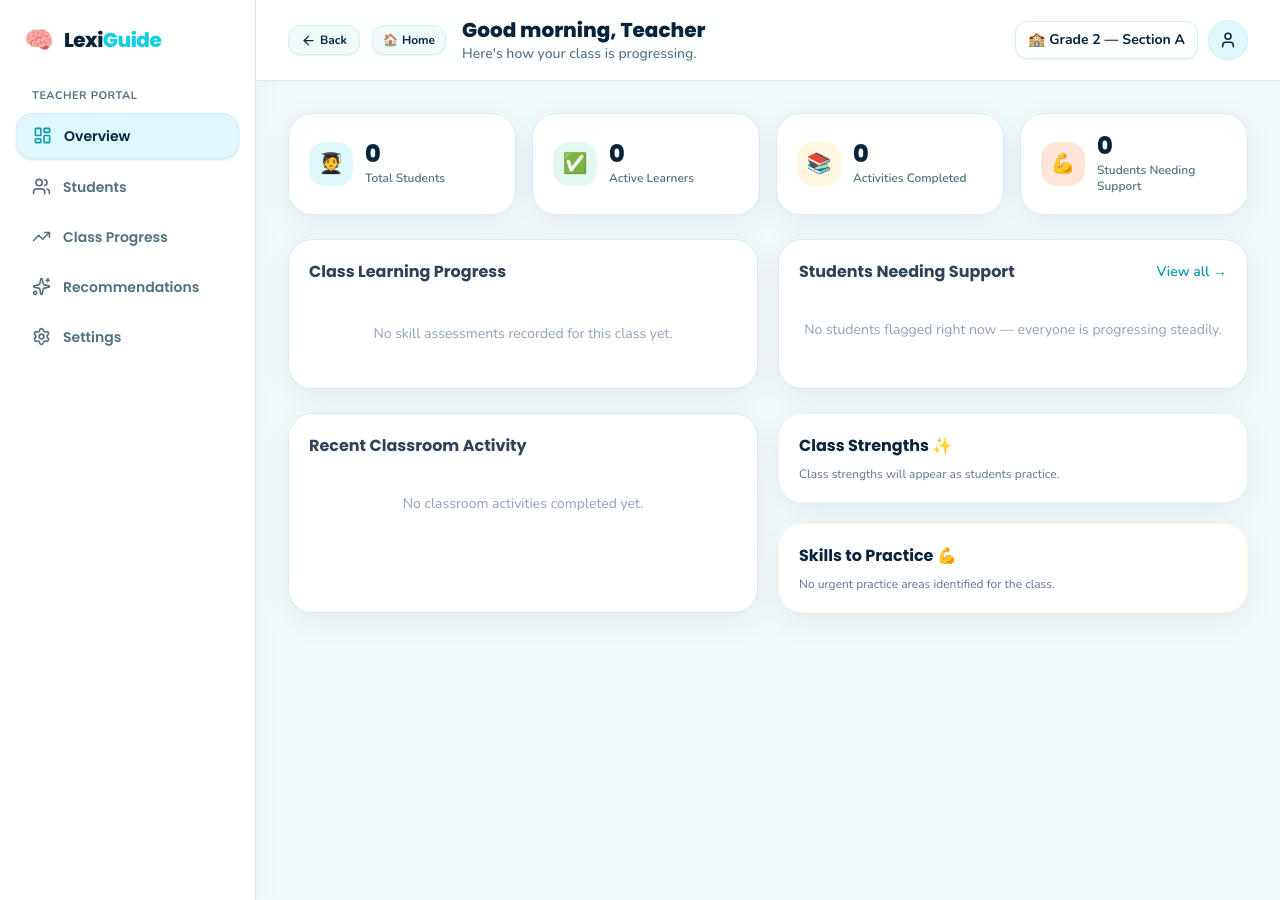
Step 1: Complete Authentication Foundation & Route Protection › 8. Teacher logout clears auth state, localStorage, and navigates to login
Expected: the heading "Good morning, Teacher" is shown, [462,16,706,44]
# Open avatar dropdown menu
Click the button named "teacher menu". click: x=1228, y=40
box: [1208,20,1248,60]
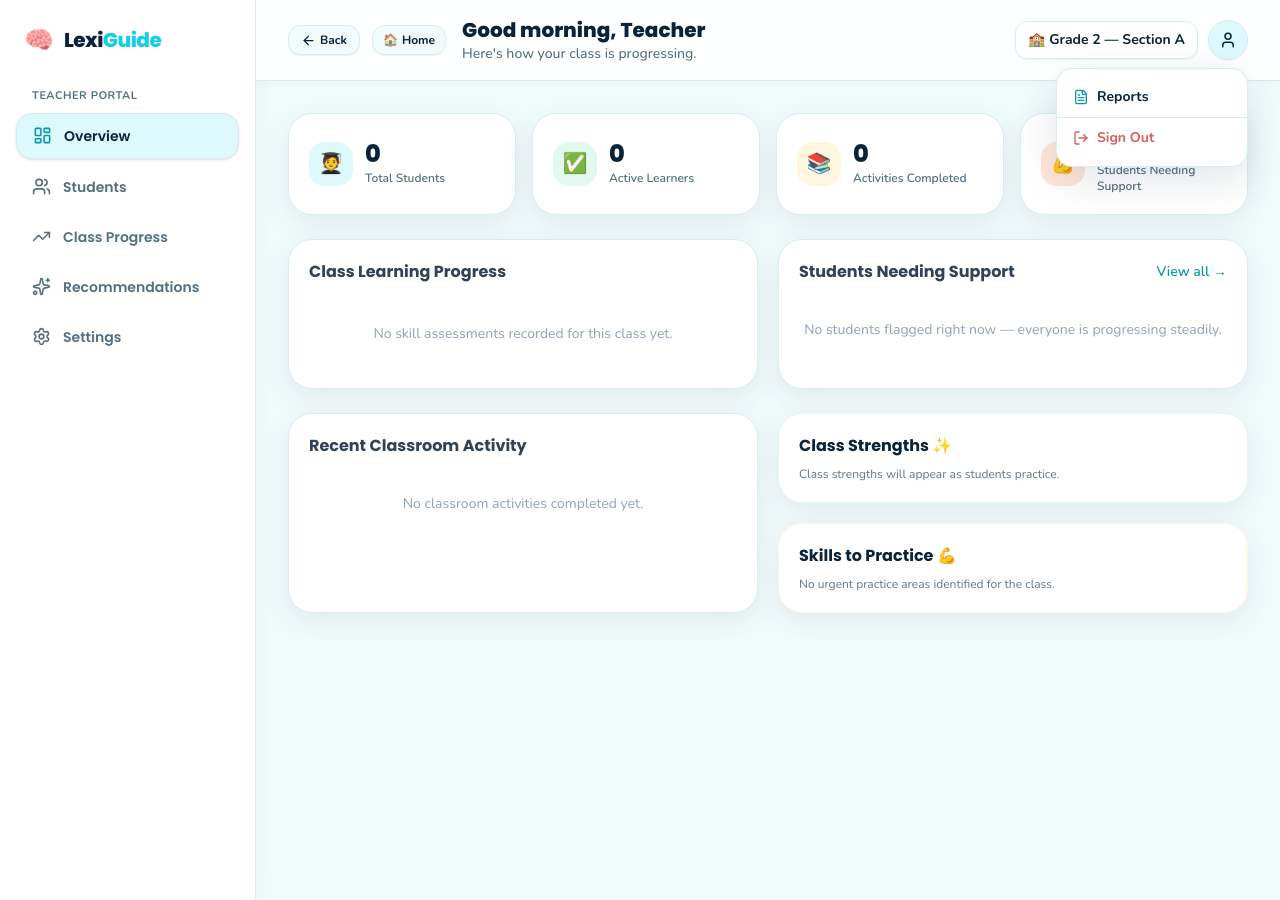
Expected: the button "Sign Out" is shown
# Click Sign Out
Click the button "Sign Out". click: x=1152, y=138
box: [1057,117,1247,158]
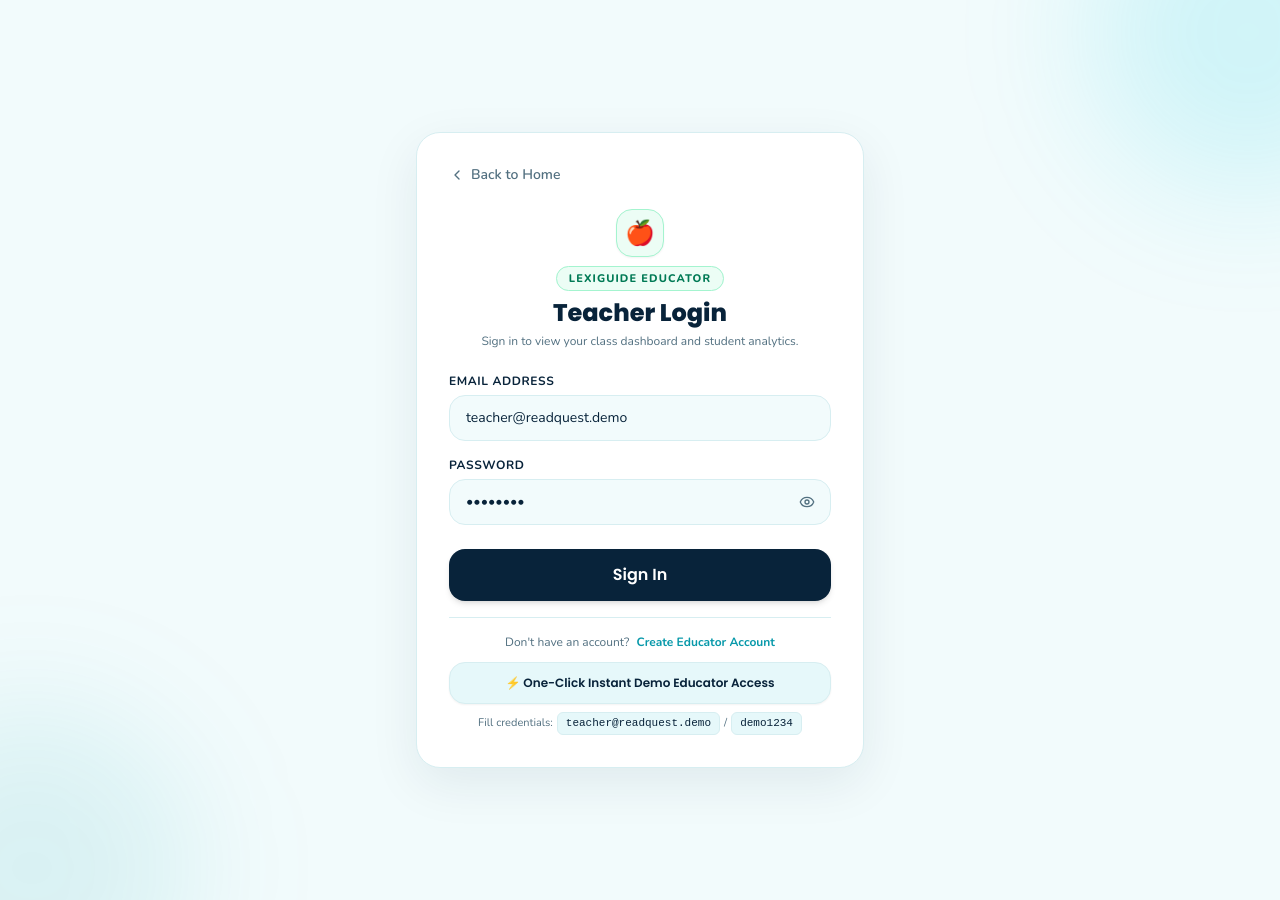
Expected: the heading "Teacher Login" is shown, [553,296,727,329]
Expected: the heading "Good morning, Teacher" is gone
